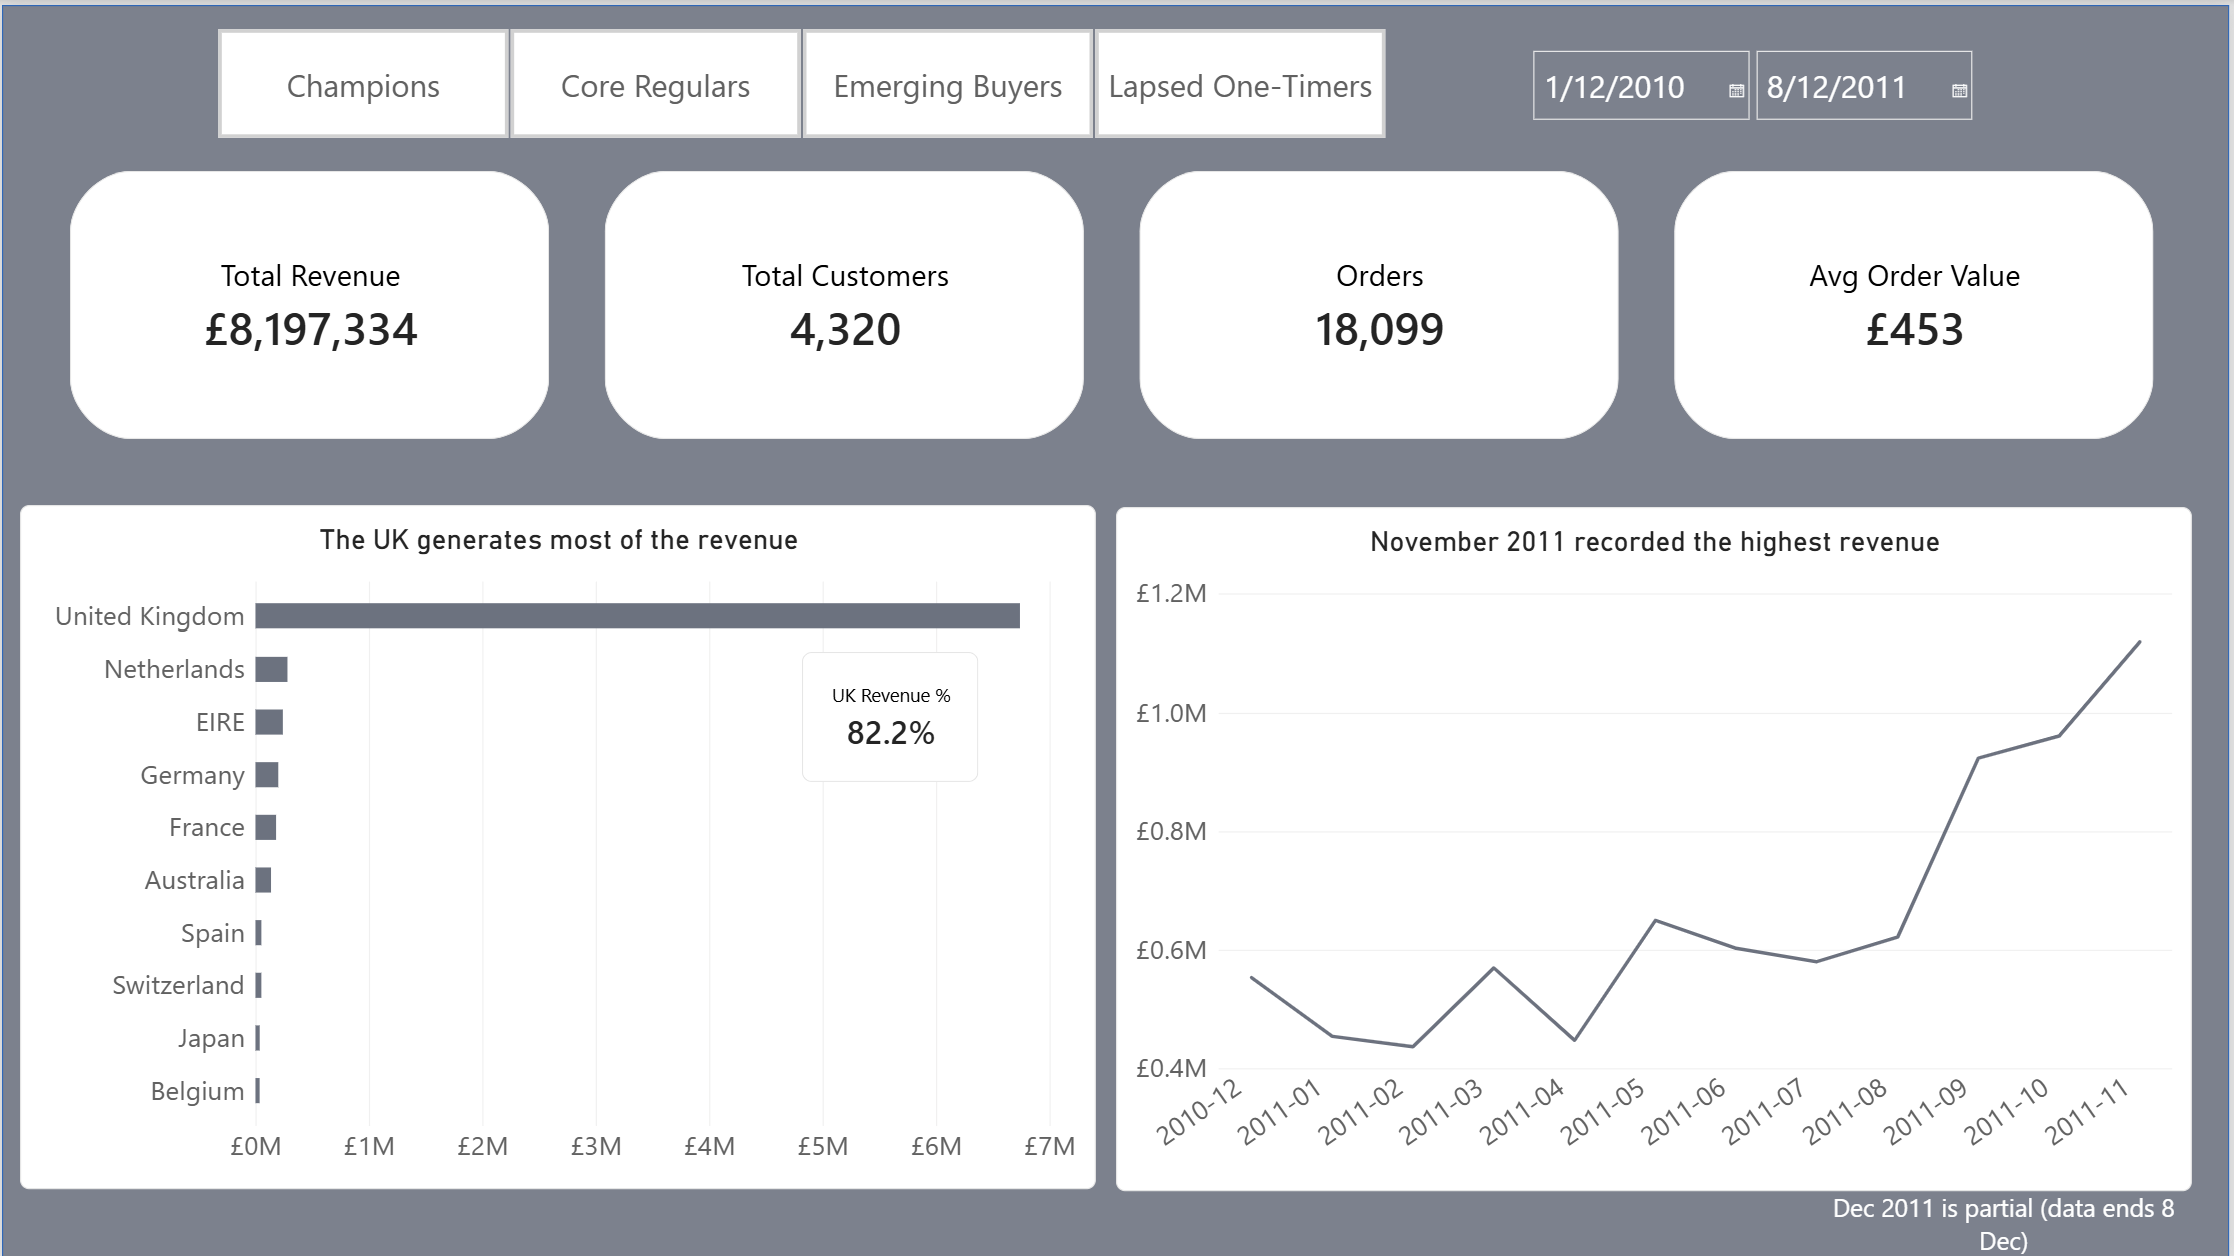

The dashboard page shown, as its layout file describes it:
{"tool":"powerbi","page":{"name":"Business Overview","canvas":[1920,1080],"ordinal":1},"visuals":[{"type":"shape","box":[0,0,1920,1080.5],"z":0},{"type":"cardVisual","fields":{"Data":["Measure.Total Revenue","Measure.Total Customers","Measure.Orders","Measure.Avg Order Value"]},"box":[59.3,143.4,1799.5,231.4],"z":1000},{"type":"lineChart","title":"November 2011 recorded the highest revenue","fields":{"Category":["dim_datev1.Month"],"Y":["Measure.Total Revenue"]},"box":[960,432.2,927.5,589],"z":2000},{"type":"textbox","box":[1562.4,1021.2,327,59.3],"z":3000},{"type":"clusteredBarChart","title":"The UK generates most of the revenue","fields":{"Category":["fact_sales.Country"],"Y":["Measure.Total Revenue"]},"box":[16.1,431.8,927.5,589],"z":4000},{"type":"slicer","title":"Date","fields":{"Values":["dim_date.Date"]},"box":[1311.9,34.4,413.1,82.2],"z":5000},{"type":"cardVisual","fields":{"Data":["Measure.UK Revenue %"]},"box":[689.5,556.8,152.6,112.9],"z":6000},{"type":"slicer","fields":{"Values":["dim_customer.Segment Name"]},"box":[166.4,19.1,1046.1,97.5],"z":7000}]}

Visuals, with their boxes in screenshot pixels (x1, y1, x2, y2), scaled from the page's 1920x1080 canvas onto the 2234x1256 screenshot:
shape: (left=0, top=0, right=2233, bottom=1255)
cardVisual - Measure.Total Revenue x Measure.Total Customers: (left=69, top=167, right=2163, bottom=436)
"November 2011 recorded the highest revenue" lineChart: (left=1117, top=503, right=2196, bottom=1188)
textbox: (left=1818, top=1188, right=2198, bottom=1255)
"The UK generates most of the revenue" clusteredBarChart: (left=19, top=502, right=1098, bottom=1187)
"Date" slicer: (left=1526, top=40, right=2007, bottom=136)
cardVisual - Measure.UK Revenue %: (left=802, top=648, right=980, bottom=779)
slicer - dim_customer.Segment Name: (left=194, top=22, right=1411, bottom=136)
